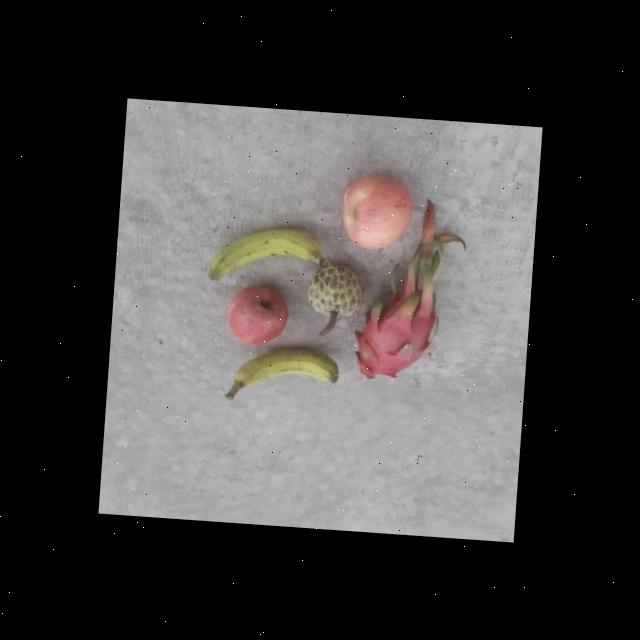Sakya fruit: (306, 261, 365, 318)
apple: (336, 171, 416, 256), (220, 284, 290, 349)
banana: (207, 222, 326, 290), (234, 345, 346, 394)
pitaya: (349, 280, 445, 387)
